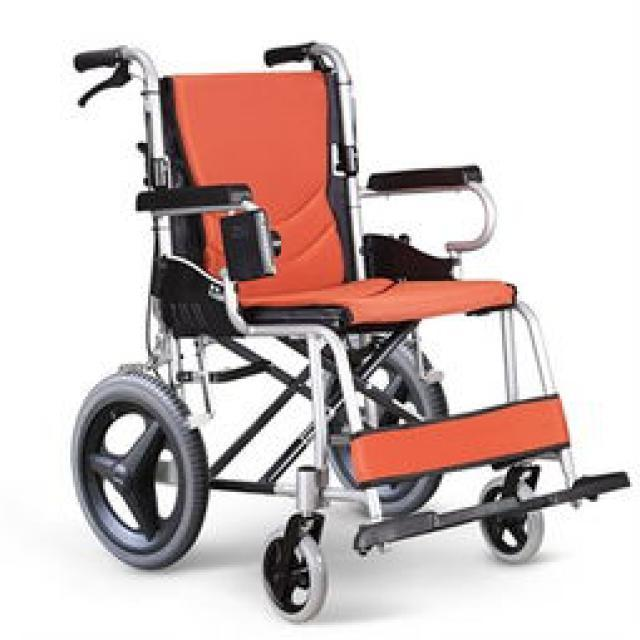wheelchair: (42, 35, 632, 620)
